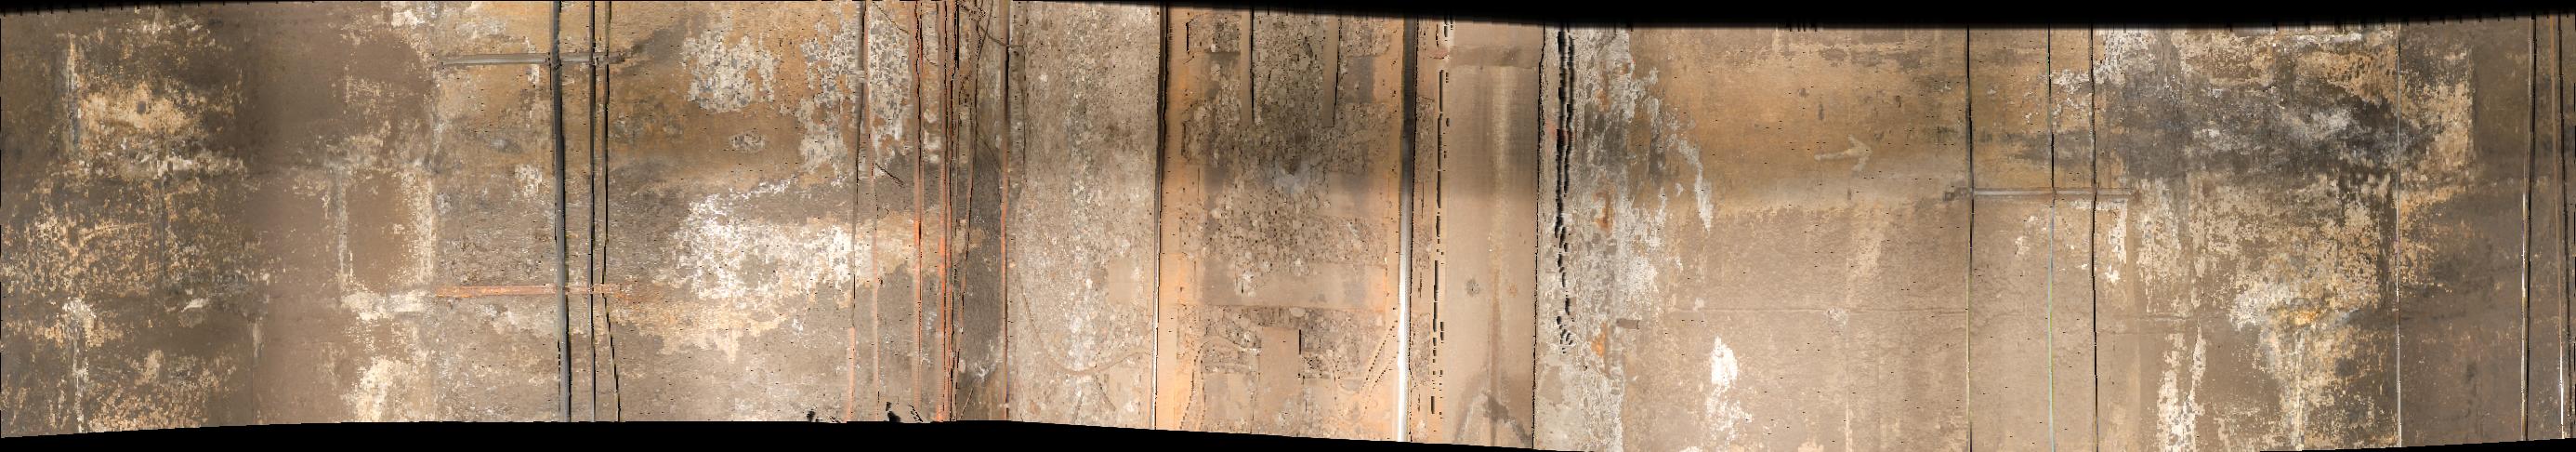pipes: (544, 5, 619, 442), (2085, 31, 2113, 452), (2040, 26, 2067, 452), (2517, 20, 2537, 452), (1963, 31, 1978, 452)
tracks: (987, 2, 1556, 450)
